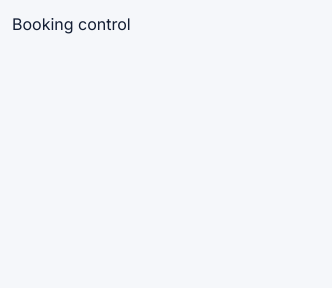
Test: PaymentForm locked-field tooltips › shows the unlock explanation for the {"field":"Booking","note":"Re-pointing to a different booking while a blocked attempt is open could orphan the audit row. C
Focus the element showing "Booking control": (71, 24) [12,12,131,36]
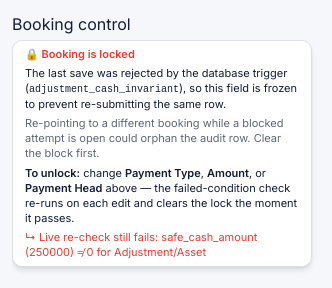
Expected: the text "adjustment_cash_invariant" is shown, [29,84,179,95]
Expected: the text "rejected by the database trigger" is shown, [25,66,287,95]
Expected: the text "Re-pointing to a different booking while a blocked attempt is open could orphan the audit row. Clear the block first." is shown, [25,116,284,160]
